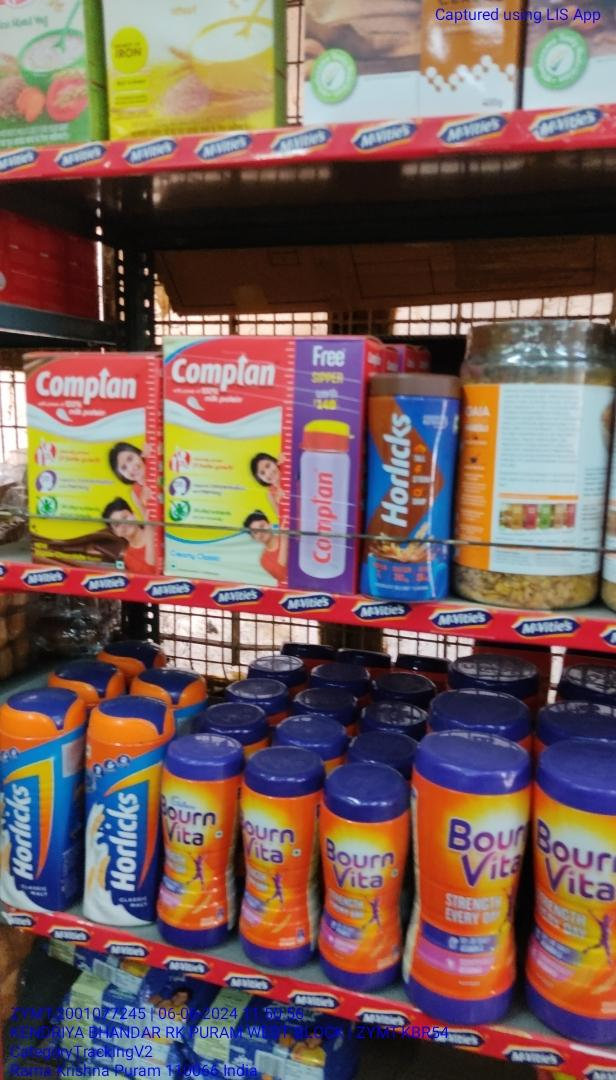BOURN_VITA_1_KG_JAR: (405, 732, 519, 1026), (523, 737, 616, 1048)
BOURN_VITA_500_G_JAR: (321, 764, 401, 989), (241, 743, 315, 968), (163, 731, 231, 946)
COMPLAN_CHOCOLATE_500_GMS_PACK: (25, 355, 167, 576)
HORLICK_CHOCOLATE_200_G_JAR: (362, 369, 448, 599)
HORLICK_CLASSIC_MALT_500_G_JAR: (86, 692, 160, 929), (0, 682, 75, 904)
